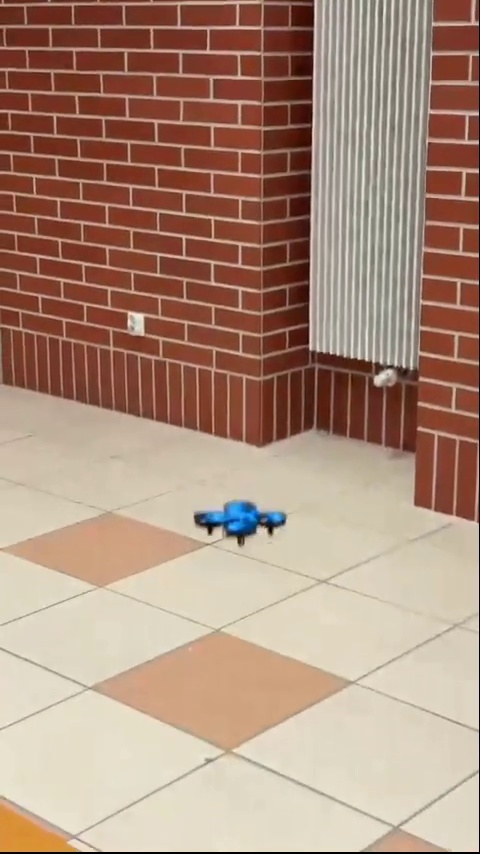drone: (198, 497, 284, 546)
